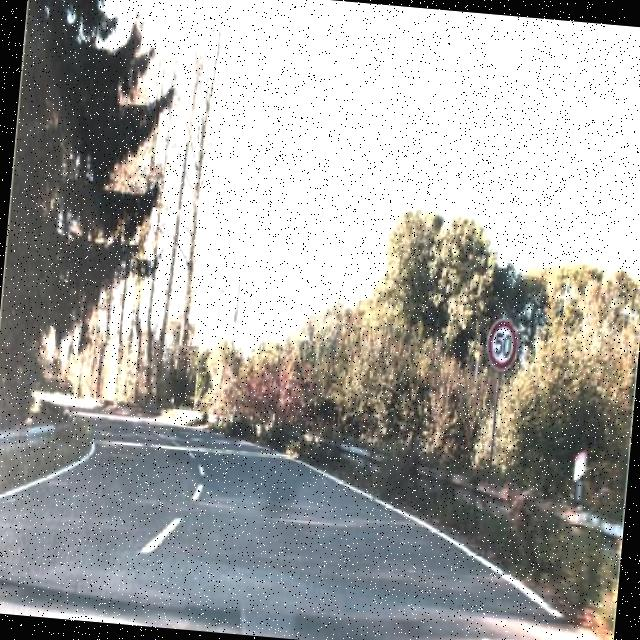Ograniczenie predkosci do 50: (483, 315, 520, 372)
